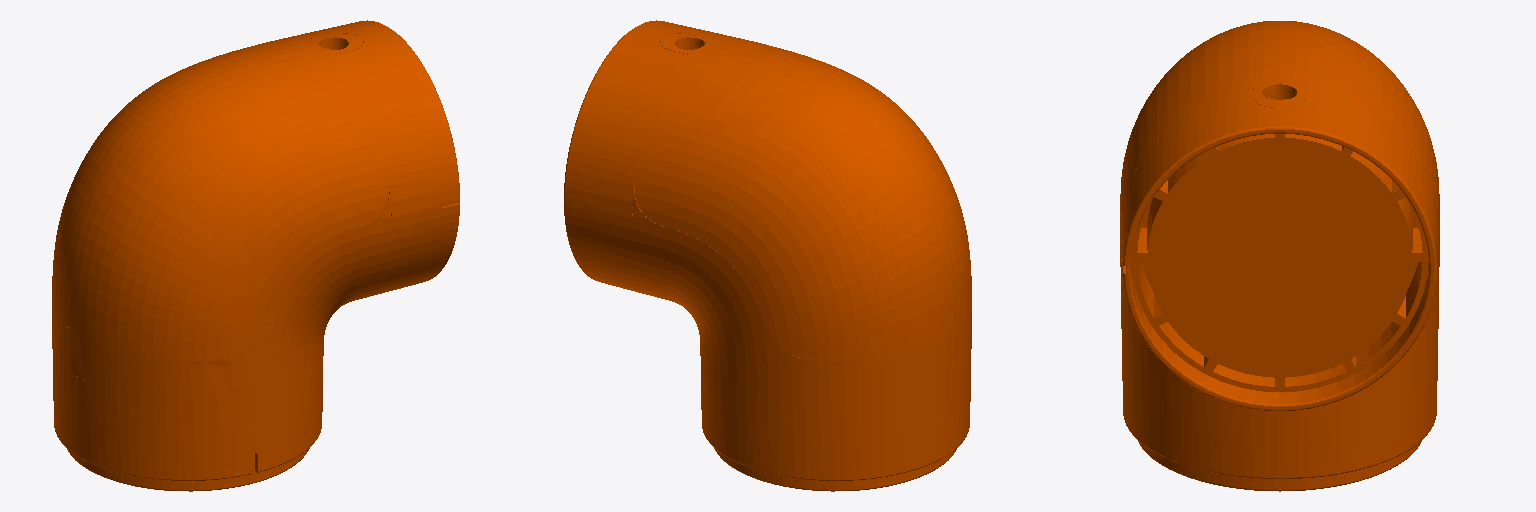
URDF robot description (mycobot_ai):
<?xml version="1.0"?>
<robot xmlns:xacro="http://www.ros.org/wiki/xacro" name="mycobot_ai">


  <link name="env">
    <visual>
      <geometry>
        <!--- 0.0 0 -0.04  1.5708 3.14159-->
        <mesh filename="package://mycobot_description/urdf/mycobot_280_m5/suit_env.dae"/>
      </geometry>
      <origin xyz = "0 0 -0.02 " rpy = "1.5708 0 -1.5708"/>
    </visual>
  </link>

  <link name="joint1">
    <visual>
      <geometry>
        <!--- 0.0 0 -0.04  1.5708 3.14159-->
        <mesh filename="package://mycobot_description/urdf/mycobot_280_m5/joint1.dae"/>
      </geometry>
      <origin xyz = "0.0 0 0 " rpy = " 0 0 -1.5708"/>
    </visual>
    <collision>
      <geometry>
        <!--- 0.0 0 -0.04  1.5708 3.14159-->
        <mesh filename="package://mycobot_description/urdf/mycobot_280_m5/joint1.dae"/>
      </geometry>
      <origin xyz = "0.0 0 0 " rpy = " 0 0 -1.5708"/>
    </collision>
  </link>

  <link name="joint2">
    <visual>
      <geometry>
        <mesh filename="package://mycobot_description/urdf/mycobot_280_m5/joint2.dae"/>
      </geometry>
      <origin xyz = "0.0 0 -0.06096 " rpy = " 0 0 -1.5708"/>
    </visual>
    <collision>
      <geometry>
        <mesh filename="package://mycobot_description/urdf/mycobot_280_m5/joint2.dae"/>
      </geometry>
      <origin xyz = "0.0 0 -0.06096 " rpy = " 0 0 -1.5708"/>
    </collision>
  </link>


  <link name="joint3">
    <visual>
      <geometry>
        <mesh filename="package://mycobot_description/urdf/mycobot_280_m5/joint3.dae"/>
      </geometry>
      <origin xyz = "0.0 0 0.03256 " rpy = " 0 -1.5708 0"/>
    </visual>
    <collision>
      <geometry>
        <mesh filename="package://mycobot_description/urdf/mycobot_280_m5/joint3.dae"/>
      </geometry>
      <origin xyz = "0.0 0 0.03256 " rpy = " 0 -1.5708 0"/>
    </collision>
  </link>


  <link name="joint4">
    <visual>
      <geometry>
        <!--- 0.0 0 -0.04 -->
        <mesh filename="package://mycobot_description/urdf/mycobot_280_m5/joint4.dae"/>
      </geometry>
      <origin xyz = "0.0 0 0.03056 " rpy = " 0 -1.5708 0"/>
    </visual>
    <collision>
      <geometry>
        <!--- 0.0 0 -0.04 -->
        <mesh filename="package://mycobot_description/urdf/mycobot_280_m5/joint4.dae"/>
      </geometry>
      <origin xyz = "0.0 0 0.03056 " rpy = " 0 -1.5708 0"/>
    </collision>
  </link>


  <link name="joint5">
    <visual>
      <geometry>
        <!--- 0.0 0 -0.04 -->
        <mesh filename="package://mycobot_description/urdf/mycobot_280_m5/joint5.dae"/>
      </geometry>
      <origin xyz = "0.0 0 -0.03356 " rpy = "-1.5708 0 0"/>
    </visual>
    <collision>
      <geometry>
        <!--- 0.0 0 -0.04 -->
        <mesh filename="package://mycobot_description/urdf/mycobot_280_m5/joint5.dae"/>
      </geometry>
      <origin xyz = "0.0 0 -0.03356 " rpy = "-1.5708 0 0"/>
    </collision>
  </link>


  <link name="joint6">
    <visual>
      <geometry>
        <!--- 0.0 0 -0.04 -->
        <mesh filename="package://mycobot_description/urdf/mycobot_280_m5/joint6.dae"/>
      </geometry>
      <origin xyz = "0 0.00 -0.038 " rpy = " 0 0 0"/>
    </visual>
    <collision>
      <geometry>
        <!--- 0.0 0 -0.04 -->
        <mesh filename="package://mycobot_description/urdf/mycobot_280_m5/joint6.dae"/>
      </geometry>
      <origin xyz = "0 0.00 -0.038 " rpy = " 0 0 0"/>
    </collision>
  </link>


  <link name="joint6_flange">
    <visual>
      <geometry>
        <!--- 0.0 0 -0.04 -->
        <mesh filename="package://mycobot_description/urdf/mycobot_280_m5/joint7.dae"/>
      </geometry>
      <origin xyz = "0.0 0 -0.012 " rpy = " 0 0 0"/>
    </visual>
    <collision>
      <geometry>
        <!--- 0.0 0 -0.04 -->
        <mesh filename="package://mycobot_description/urdf/mycobot_280_m5/joint7.dae"/>
      </geometry>
      <origin xyz = "0.0 0 -0.012 " rpy = " 0 0 0"/>
    </collision>
  </link>





  <joint name="joint2_to_joint1" type="revolute">
    <axis xyz="0 0 1"/>
    <limit effort = "1000.0" lower = "-3.14" upper = "3.14159" velocity = "0"/>
    <parent link="joint1"/>
    <child link="joint2"/>
    <origin xyz= "0 0 0.13156" rpy = "0 0 0"/>
  </joint>

  <joint name="joint3_to_joint2" type="revolute">
    <axis xyz="0 0 1"/>
    <limit effort = "1000.0" lower = "-3.14" upper = "3.14159" velocity = "0"/>
    <parent link="joint2"/>
    <child link="joint3"/>
    <origin xyz= "0 0  0" rpy = "0 1.5708 -1.5708"/>
  </joint>


  <joint name="joint4_to_joint3" type="revolute">
    <axis xyz=" 0 0 1"/>
    <limit effort = "1000.0" lower = "-3.14" upper = "3.14159" velocity = "0"/>
    <parent link="joint3"/>
    <child link="joint4"/>
    <origin xyz= "  -0.1104 0 0   " rpy = "0 0 0"/>
  </joint>



  <joint name="joint5_to_joint4" type="revolute">
    <axis xyz=" 0 0 1"/>
    <limit effort = "1000.0" lower = "-3.14" upper = "3.14159" velocity = "0"/>
    <parent link="joint4"/>
    <child link="joint5"/>
    <origin xyz= "-0.096 0 0.06462" rpy = "0 0 -1.5708"/>
  </joint>

  <joint name="joint6_to_joint5" type="revolute">
    <axis xyz="0 0 1"/>
    <limit effort = "1000.0" lower = "-3.14" upper = "3.14159" velocity = "0"/>
    <parent link="joint5"/>
    <child link="joint6"/>
    <origin xyz= "0 -0.07318 0" rpy = "1.5708 -1.5708 0"/>
  </joint>

  <joint name="joint6output_to_joint6" type="revolute">
    <axis xyz="0 0 1"/>
    <limit effort = "1000.0" lower = "-3.14" upper = "3.14159" velocity = "0"/>
    <parent link="joint6"/>
    <child link="joint6_flange"/>
    <origin xyz= "0 0.0456 0" rpy = "-1.5708 0 0"/>
  </joint>

  <joint name="vision_joint" type="fixed">
    <axis xyz="0 0 0"/>
    <limit effort = "1000.0" lower = "-3.14" upper = "3.14159" velocity = "0"/>
    <parent link="joint1"/>
    <child link="env"/>
    <origin xyz= "0 0 0" rpy = "0 0 0"/>
  </joint>

</robot>

--- What the picture shows (computed from the rendered views, not written in the file) ---
Views: 3 orthographic renders of the robot side by side, from view 1: azimuth 30°, elevation 25°; view 2: azimuth 150°, elevation 25°; view 3: azimuth 270°, elevation 25°.
Robot: mycobot_ai — 8 links, 7 joints (6 revolute, 1 fixed); root link joint1; default pose: all joints at 0.
Visible links, largest first — view 1: joint5; view 2: joint5; view 3: joint5.
Boxes of the visible links, left/top/right/bottom form: joint5: left=52, top=20, right=459, bottom=491; joint5: left=564, top=20, right=971, bottom=491; joint5: left=1120, top=21, right=1439, bottom=491.
Size in the robot's own frame: 0.0528 by 0.0386 by 0.0563 metres.
1 mesh visuals loaded from 8 distinct referenced files (1 Collada DAE); not drawn: 7 (reference not matched to a file when rendering).